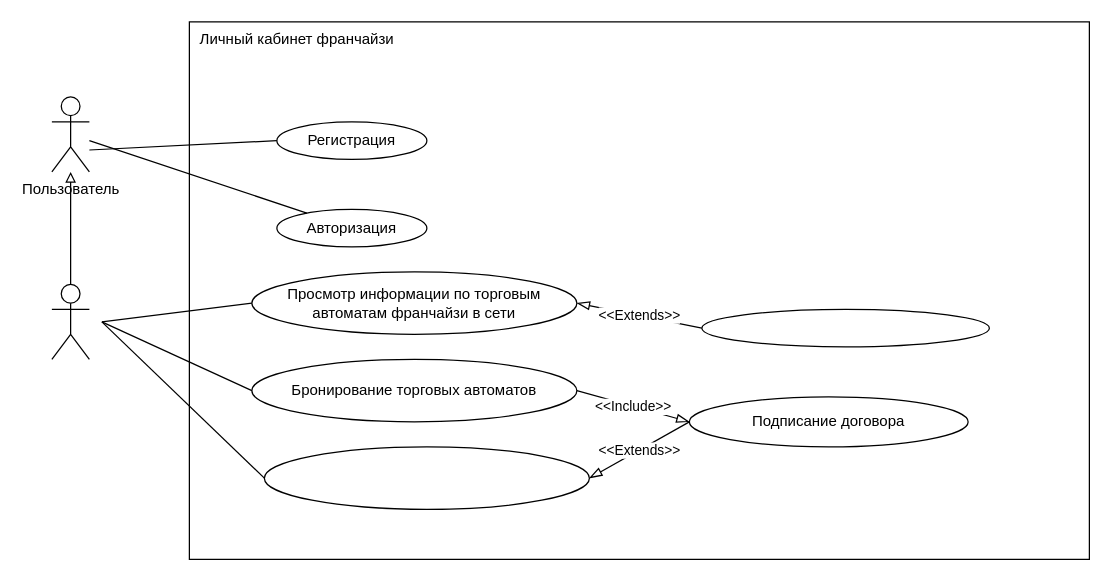
Some shapes in this 1111 by 581 pixel diagram are drawn without their labels. The centre of each missing label's shape, as x and y in pixels:
"Просмотр договоров франчайзи" belongs at point (426, 477).
"Франчайзи" belongs at point (70, 321).
"Экспорт данных в csv" belongs at point (845, 327).
